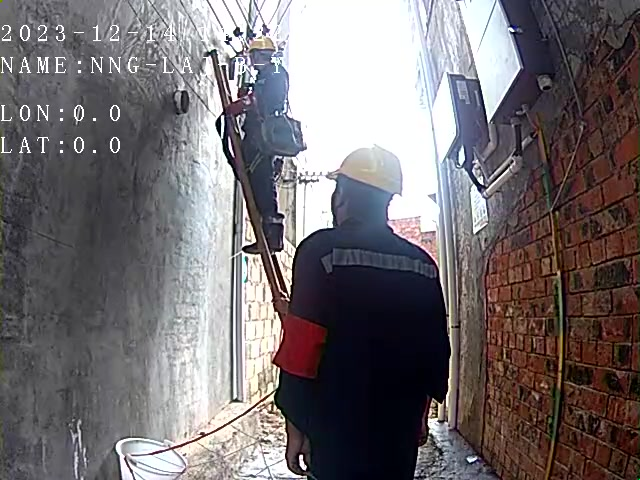badge: (272, 311, 330, 380)
halt: (324, 144, 405, 218), (245, 36, 277, 71)
hand: (281, 433, 312, 476)
person: (264, 140, 455, 480), (237, 35, 300, 258)
shoe: (242, 212, 288, 254)
upsuit: (271, 216, 453, 433)
